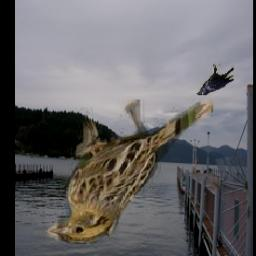Crow: (196, 65, 234, 96)
Sparrow: (46, 100, 213, 244)
